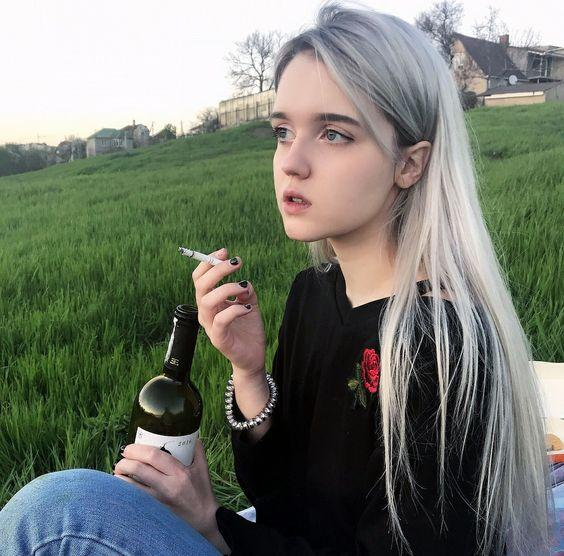cigarette: (177, 247, 223, 266)
